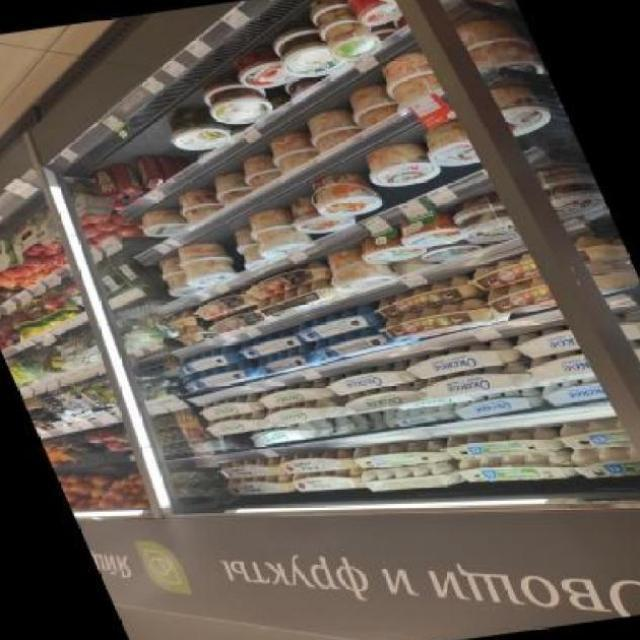Egg: (455, 445, 586, 493), (379, 297, 511, 342), (364, 276, 494, 319), (442, 424, 570, 466), (404, 338, 526, 380), (192, 69, 276, 127), (262, 20, 346, 78), (415, 362, 537, 401), (306, 321, 419, 363), (239, 207, 320, 261), (358, 141, 446, 190), (280, 188, 363, 236), (156, 106, 237, 154), (305, 173, 387, 220), (320, 247, 399, 295), (347, 437, 452, 473), (321, 361, 424, 397), (293, 306, 386, 343), (173, 240, 245, 286), (450, 388, 549, 421), (340, 382, 435, 415), (263, 396, 356, 427), (246, 419, 336, 448), (395, 214, 468, 249), (453, 211, 526, 246), (183, 362, 265, 393), (253, 379, 336, 409), (357, 232, 429, 266), (253, 343, 326, 376), (276, 447, 356, 477), (171, 345, 248, 376), (234, 329, 311, 360), (291, 466, 366, 497), (200, 411, 275, 439), (222, 472, 296, 500), (193, 395, 267, 421), (215, 456, 286, 483), (87, 165, 131, 208), (108, 161, 151, 204), (539, 379, 606, 406)
